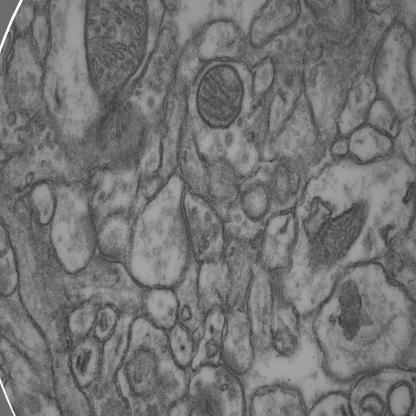mitochondria: (84, 0, 149, 102), (305, 202, 371, 272), (196, 60, 245, 130)
